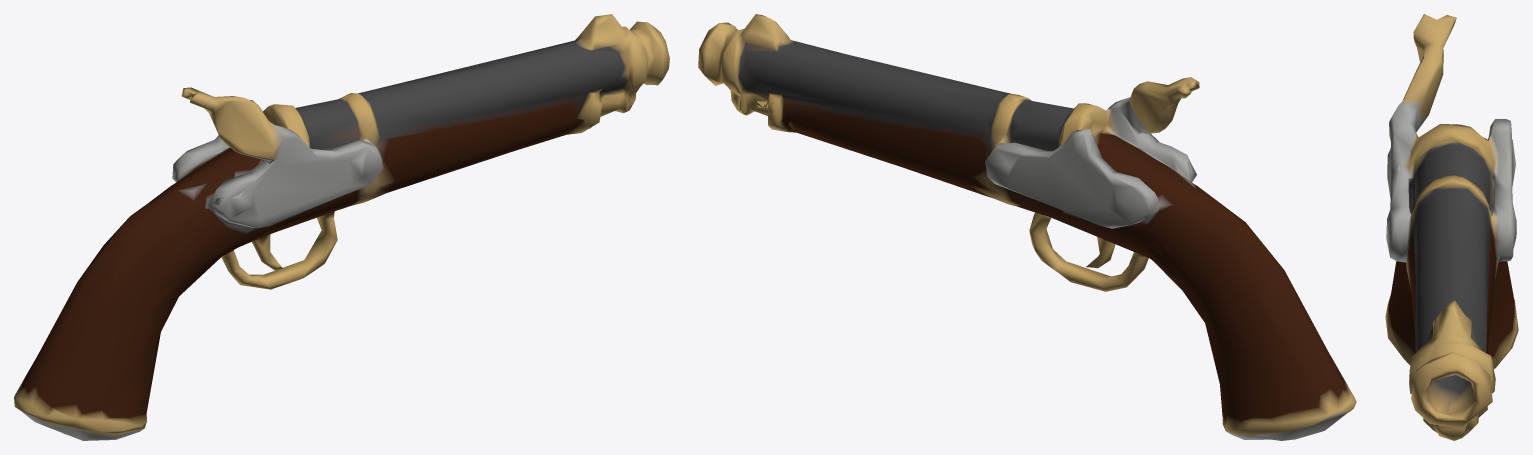
The model's file is gen3d-flintlock-pistol-lod0.glb.
3 views of the same model, side by side, from view 1: azimuth 30°, elevation 25°; view 2: azimuth 150°, elevation 25°; view 3: azimuth 270°, elevation 25° (orthographic). The views are drawn at different scales.
Visible parts, largest first — view 1: part_0; view 2: part_0; view 3: part_0.
Part boxes in pixels (x1,y1,x2,y2): part_0: (14, 14, 669, 440); part_0: (698, 14, 1356, 440); part_0: (1385, 14, 1518, 440).
Bounding box in the file's own units: 2.03 × 0.9914 × 0.2948.
